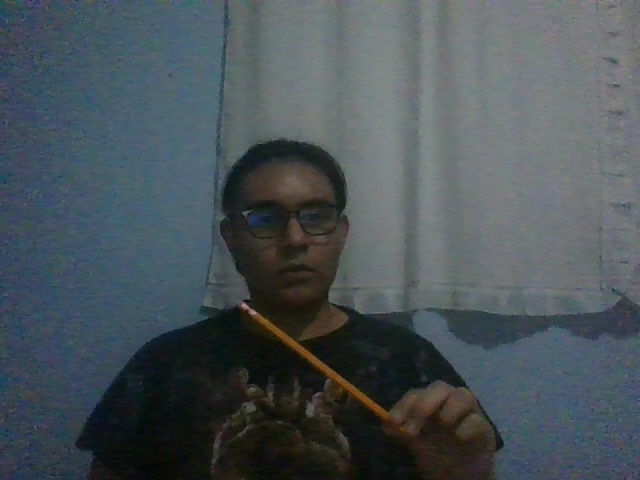lapiz: (235, 299, 404, 431)
